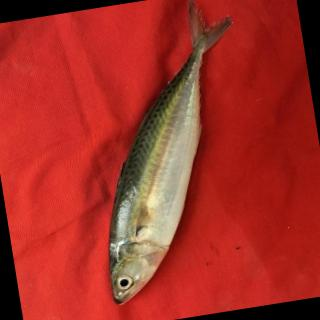Ikan: (50, 1, 280, 319)
